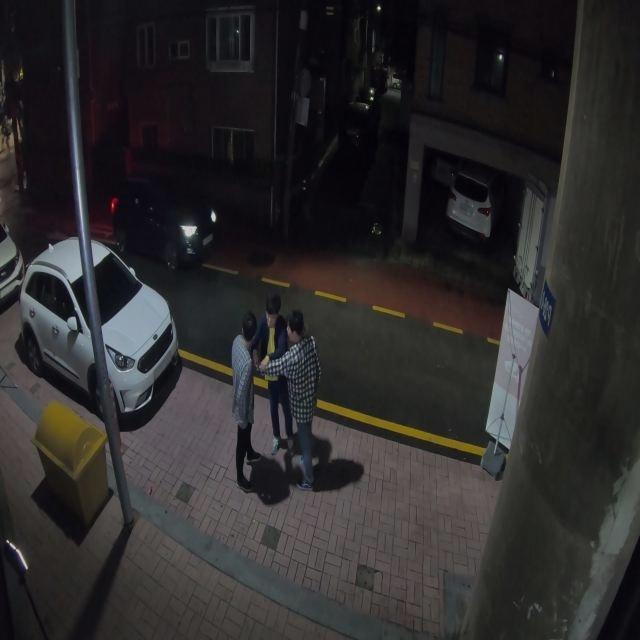fight: (227, 291, 324, 503)
